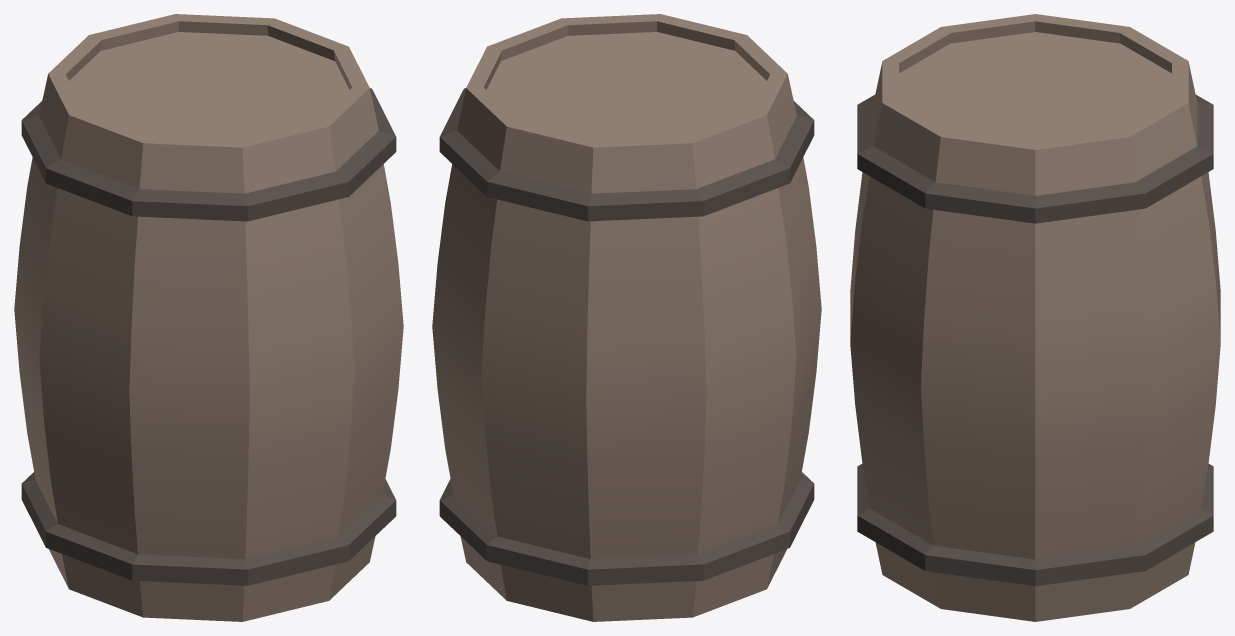
File: barrel.fbx
3 views of the same model, side by side, from view 1: azimuth 30°, elevation 25°; view 2: azimuth 150°, elevation 25°; view 3: azimuth 270°, elevation 25° (orthographic).
Visible parts, largest first — view 1: pCylinder1; view 2: pCylinder1; view 3: pCylinder1.
Part boxes in pixels (box(x1,y1,x2,y2)): pCylinder1: box(14, 14, 403, 621); pCylinder1: box(432, 14, 821, 621); pCylinder1: box(850, 14, 1220, 621).
Bounding box in the file's own units: 4.49 × 6 × 4.27.
